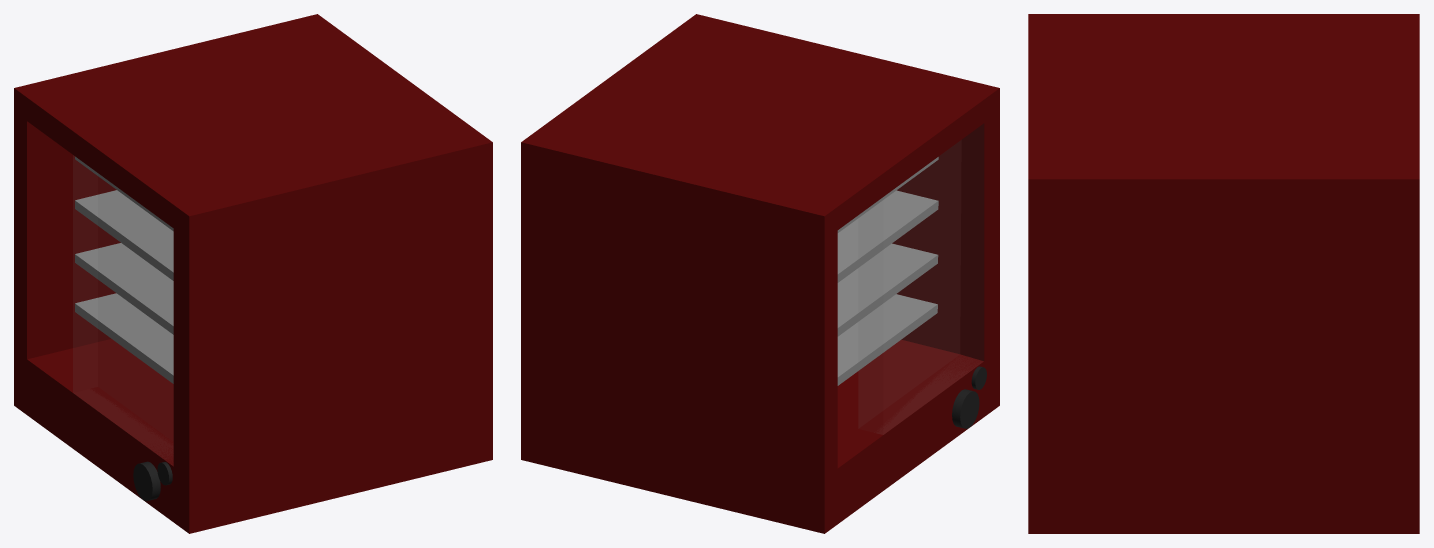
The model's file is Oven.fbx.
3 renders of one model, left to right at view 1: azimuth 30°, elevation 25°; view 2: azimuth 150°, elevation 25°; view 3: azimuth 270°, elevation 25°, orthographic. The views are drawn at different scales.
Visible parts, largest first — view 1: pasted__Oven, pasted__pCube2, pasted__pasted__pCube2, pCube2, pCylinder1; view 2: pasted__Oven, pasted__pCube2, pasted__pasted__pCube2, pCube2, pCylinder1; view 3: pasted__Oven.
Part boxes in pixels (<box>): pasted__Oven: <box>14,14,492,533</box>; pasted__pCube2: <box>75,243,173,334</box>; pasted__pasted__pCube2: <box>75,190,173,280</box>; pCube2: <box>75,293,173,383</box>; pCylinder1: <box>133,461,160,501</box>; pasted__Oven: <box>521,14,999,533</box>; pasted__pCube2: <box>837,243,938,336</box>; pasted__pasted__pCube2: <box>837,190,938,282</box>; pCube2: <box>837,294,937,385</box>; pCylinder1: <box>952,389,979,428</box>; pasted__Oven: <box>1028,14,1419,533</box>.
Bounding box in the file's own units: 254 × 248 × 248.
